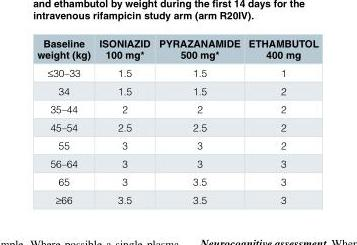table: (36, 36, 317, 205)
table column: (153, 36, 243, 205), (243, 36, 317, 205), (94, 36, 153, 205), (36, 36, 94, 205)
table column header: (36, 36, 317, 62)
table row: (36, 36, 317, 62), (36, 62, 317, 81), (36, 153, 317, 172), (36, 81, 317, 99), (36, 99, 317, 117), (36, 117, 317, 135), (36, 135, 317, 153), (36, 172, 317, 190), (36, 190, 317, 205)
